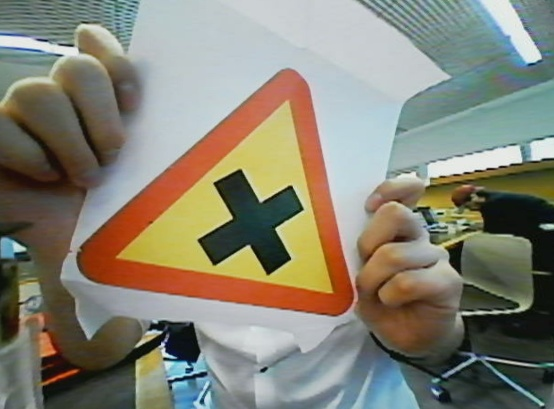junction: (70, 69, 364, 328)
